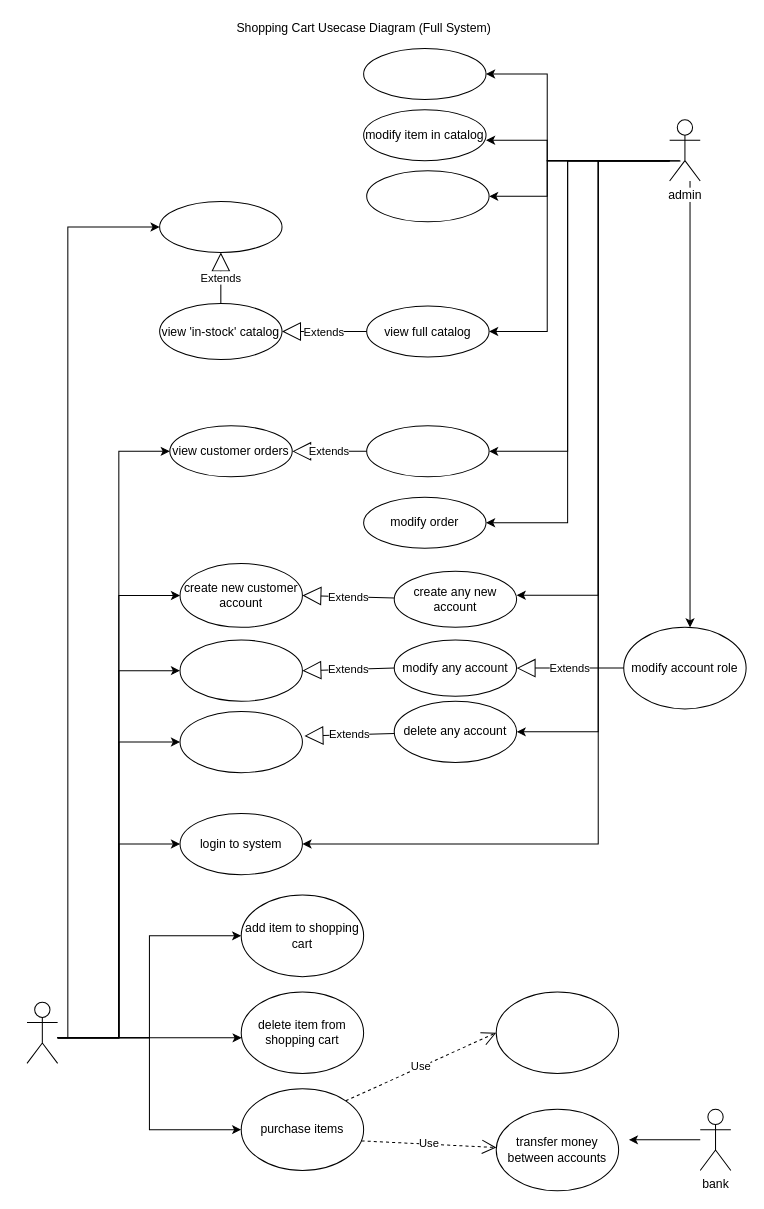
This 764x1209 diagram has some shape labels left out. The box of each missing label's shape, as (x1, y1, x2, y2) in pixels:
add item to catalog: (363, 47, 486, 99)
convert shopping cart to invoice and order: (495, 991, 619, 1074)
customer: (26, 1001, 58, 1063)
delete customer account: (179, 710, 302, 773)
delete item from catalog: (366, 170, 489, 222)
modify customer account: (179, 639, 302, 701)
search catalog: (159, 200, 282, 252)
view all orders: (366, 425, 489, 477)
